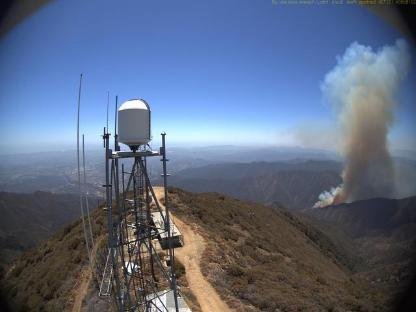smoke: (311, 37, 415, 209)
